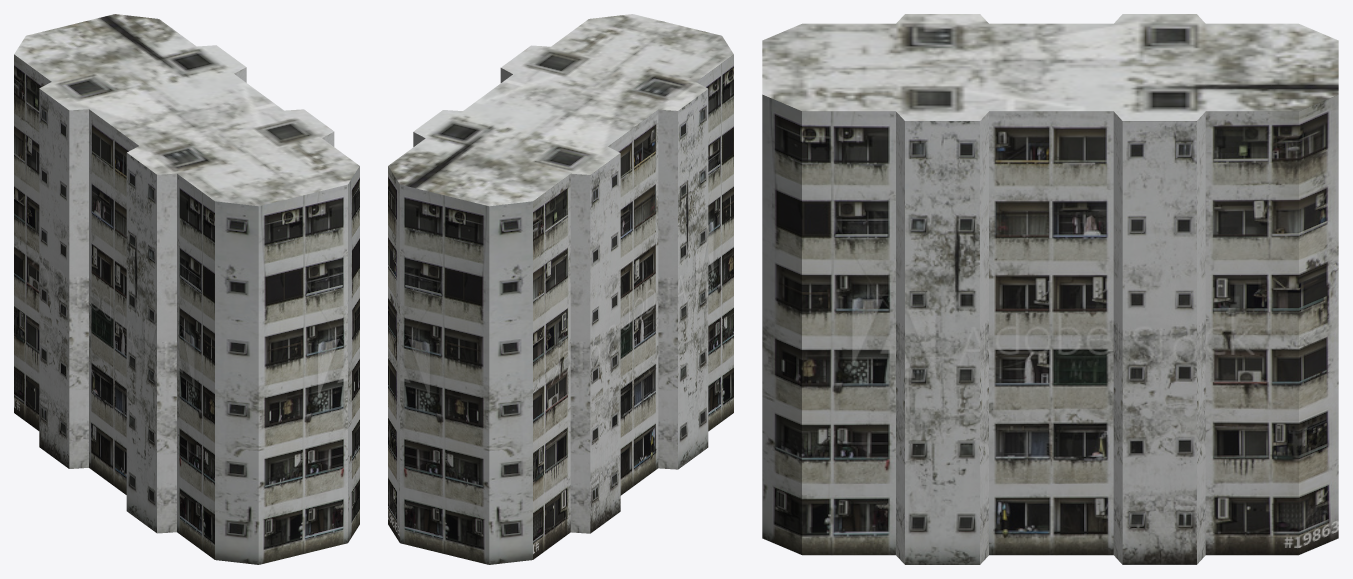
File: building4.fbx
3 renders of one model, left to right at view 1: azimuth 30°, elevation 25°; view 2: azimuth 150°, elevation 25°; view 3: azimuth 270°, elevation 25°, orthographic. The views are drawn at different scales.
Visible parts, largest first — view 1: Cube.002; view 2: Cube.002; view 3: Cube.002.
Part boxes in pixels (box(x1,y1,x2,y2)): Cube.002: box(14, 14, 359, 564); Cube.002: box(388, 14, 733, 564); Cube.002: box(762, 14, 1338, 564).
Size of the model in its own units: 1788 by 3457 by 4069.
Materials: 1 (1 with a texture image).
